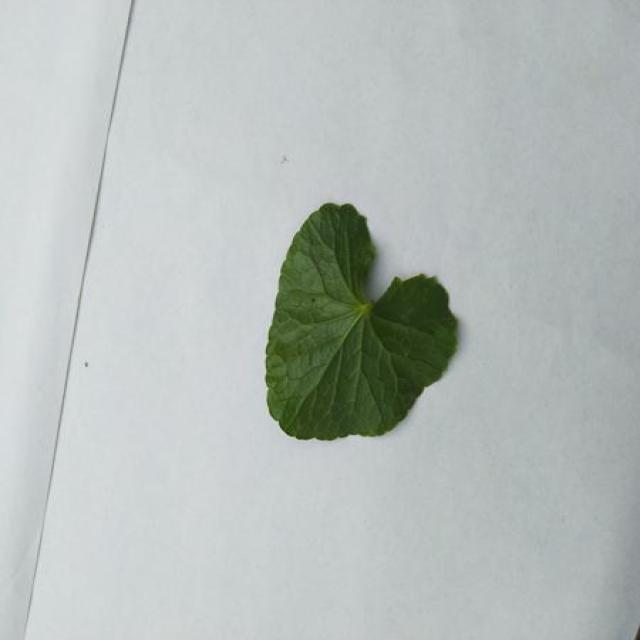Amruthaballi: (265, 204, 457, 439)
defectedAmruthaballi: (268, 234, 457, 439)
